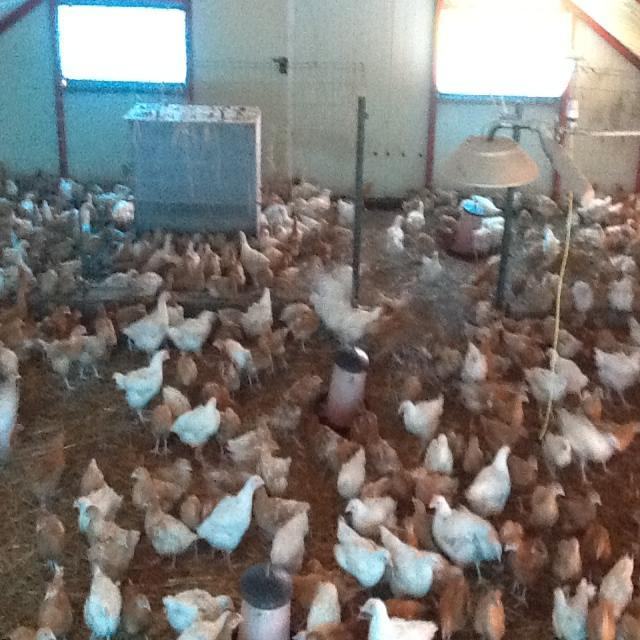poussin: (431, 495, 508, 590), (550, 409, 626, 487), (197, 480, 262, 570), (311, 272, 384, 352), (378, 524, 449, 598), (113, 344, 169, 432), (330, 514, 394, 584), (288, 557, 363, 616), (143, 496, 200, 570), (503, 520, 547, 614), (250, 475, 314, 536), (68, 456, 122, 528), (358, 592, 434, 640), (40, 321, 91, 391), (464, 444, 514, 514), (165, 306, 217, 372), (123, 288, 172, 358), (593, 344, 640, 416), (86, 503, 140, 565), (25, 430, 67, 508), (286, 583, 342, 640), (82, 568, 126, 640), (218, 286, 272, 342), (549, 578, 596, 640), (172, 396, 219, 458), (520, 364, 574, 416), (164, 587, 233, 627), (359, 414, 401, 479), (267, 516, 313, 574), (342, 491, 404, 534), (224, 412, 272, 467), (129, 468, 188, 512), (432, 570, 469, 640), (38, 566, 74, 637), (0, 290, 34, 364), (398, 394, 447, 444), (473, 581, 512, 640), (452, 378, 506, 420), (591, 408, 640, 454), (282, 294, 321, 348), (236, 228, 271, 288), (304, 221, 354, 263), (600, 554, 636, 612), (336, 448, 374, 502), (409, 466, 455, 510), (182, 609, 247, 640), (120, 578, 154, 637), (31, 508, 66, 565), (424, 424, 460, 479), (80, 325, 114, 383), (507, 449, 538, 512), (0, 369, 22, 457), (546, 345, 590, 389), (466, 214, 508, 259), (246, 334, 279, 391), (258, 440, 300, 484), (404, 183, 440, 234), (39, 304, 84, 344), (93, 296, 121, 360), (478, 420, 530, 454), (476, 337, 515, 382), (460, 309, 506, 347), (85, 260, 143, 290), (108, 228, 156, 264), (562, 491, 602, 534), (570, 229, 610, 272), (383, 586, 431, 621), (503, 326, 547, 364), (489, 385, 529, 425), (407, 495, 441, 542), (532, 478, 570, 520), (290, 184, 336, 218), (601, 218, 640, 258), (538, 430, 572, 475), (528, 188, 566, 228), (212, 336, 252, 374), (458, 429, 486, 482), (526, 231, 562, 270), (431, 342, 471, 377), (383, 208, 414, 253), (264, 322, 295, 367), (584, 520, 612, 568), (114, 299, 150, 336), (265, 401, 303, 436), (223, 240, 250, 288), (182, 494, 220, 528), (288, 372, 328, 404), (162, 380, 194, 420), (552, 542, 582, 584), (578, 196, 620, 226), (215, 405, 242, 449), (579, 379, 605, 424), (173, 260, 212, 290), (429, 207, 458, 247), (145, 234, 179, 268), (40, 194, 75, 227), (417, 248, 445, 288), (260, 224, 286, 267), (608, 270, 633, 314), (544, 270, 570, 312), (132, 264, 168, 294), (30, 264, 60, 300), (78, 219, 106, 257), (461, 344, 492, 378), (76, 194, 105, 230), (593, 597, 617, 640), (150, 401, 170, 452), (180, 237, 206, 276), (552, 319, 576, 361), (476, 186, 504, 222), (259, 202, 295, 230), (203, 238, 230, 275), (4, 622, 58, 640), (58, 255, 84, 292), (429, 184, 461, 214), (277, 220, 309, 250), (330, 196, 362, 226), (570, 276, 598, 310), (209, 266, 243, 294), (3, 262, 34, 292), (10, 208, 40, 238), (48, 230, 79, 259), (203, 376, 232, 406), (111, 194, 141, 223), (218, 358, 242, 393), (0, 195, 16, 244), (1, 239, 30, 265), (30, 226, 50, 262), (88, 182, 114, 206), (56, 179, 82, 201), (4, 177, 27, 201), (21, 189, 41, 214)
